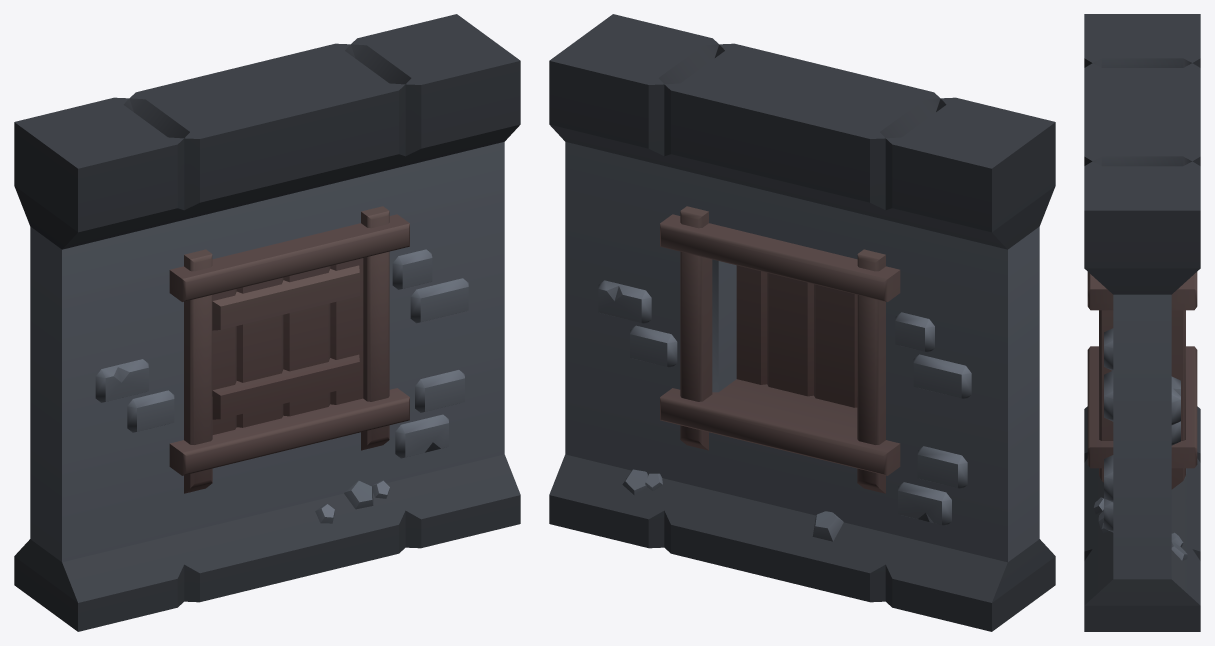
File: wall_window_closed.glb
3 views of the same model, side by side, from view 1: azimuth 30°, elevation 25°; view 2: azimuth 150°, elevation 25°; view 3: azimuth 270°, elevation 25° (orthographic). The views are drawn at different scales.
Parts seen in each view (by area): view 1: wall_window_closed; view 2: wall_window_closed; view 3: wall_window_closed.
Part boxes in pixels (x1=…): wall_window_closed: x1=14, y1=14, x2=520, y2=631; wall_window_closed: x1=549, y1=14, x2=1055, y2=631; wall_window_closed: x1=1084, y1=14, x2=1200, y2=631.
Bounding box in the file's own units: 4 × 4 × 1.
1 material, 1 textured.
